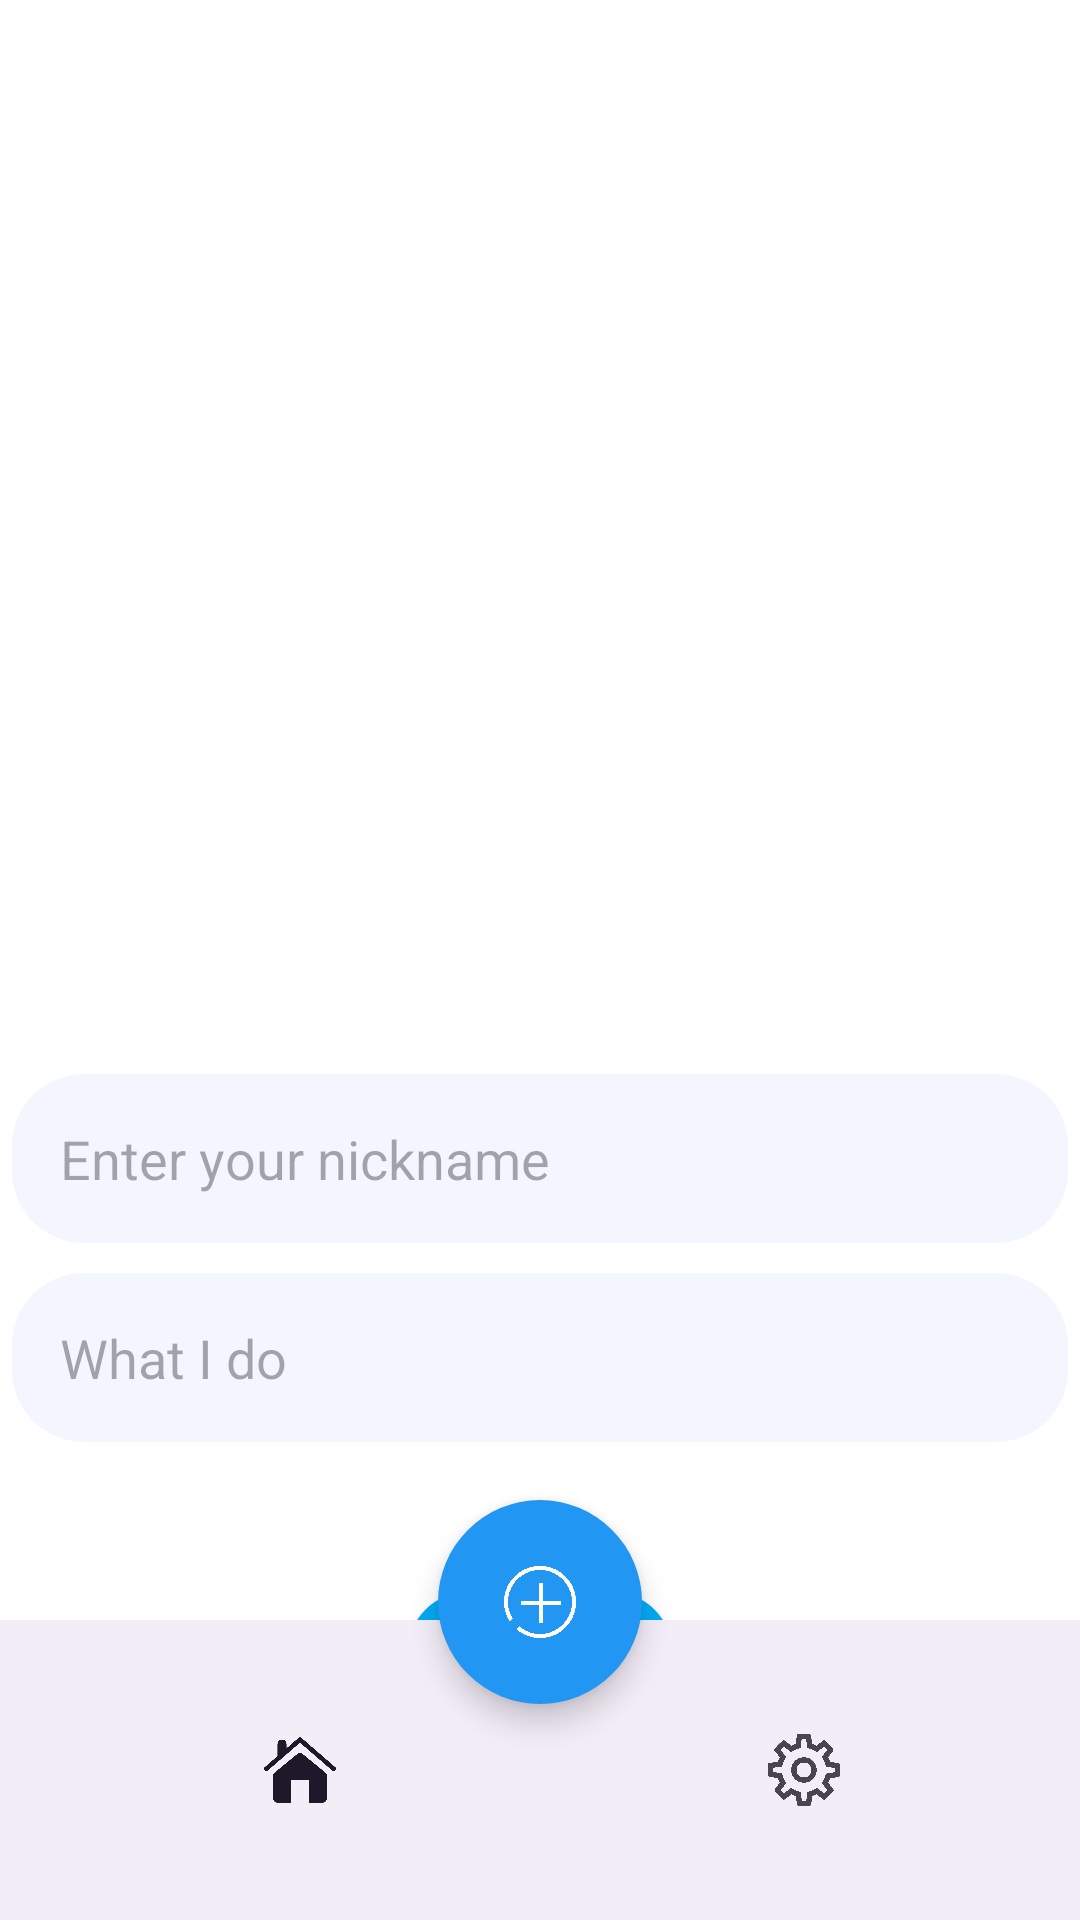

Named icons in this screenshot (1080w x 1920h) and their bounding boxes, bbox=(x1, y1, x2, y2):
action button: bbox=(438, 1500, 642, 1704)
